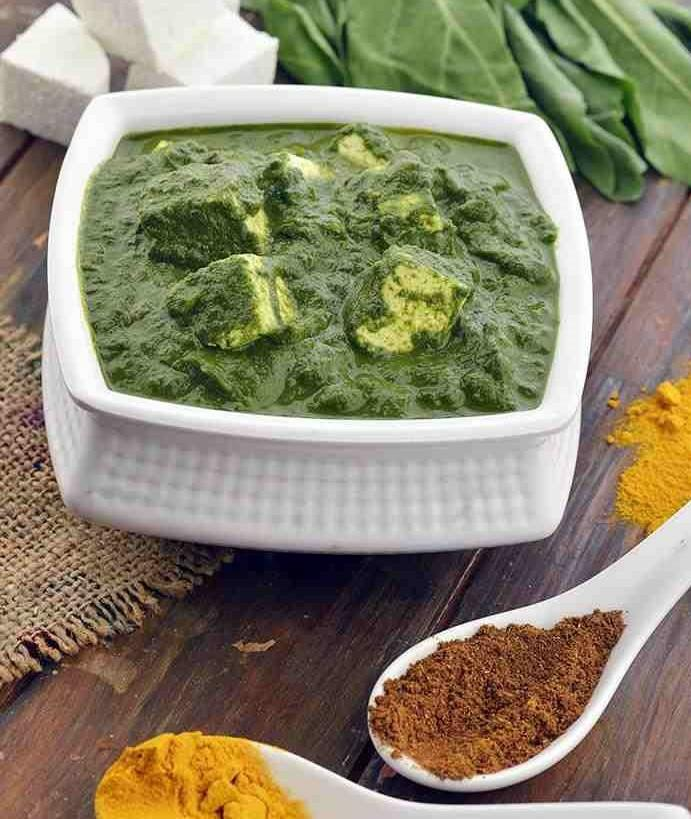PalakPaneer: (71, 122, 562, 416)
